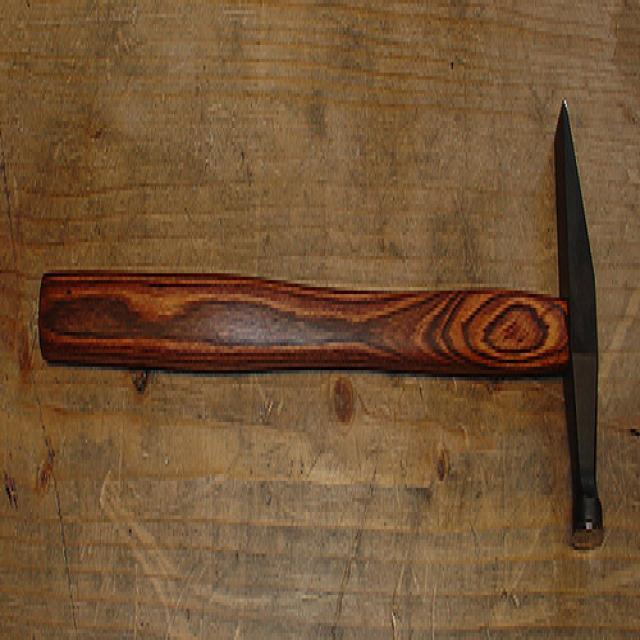hammer: (29, 79, 620, 603)
